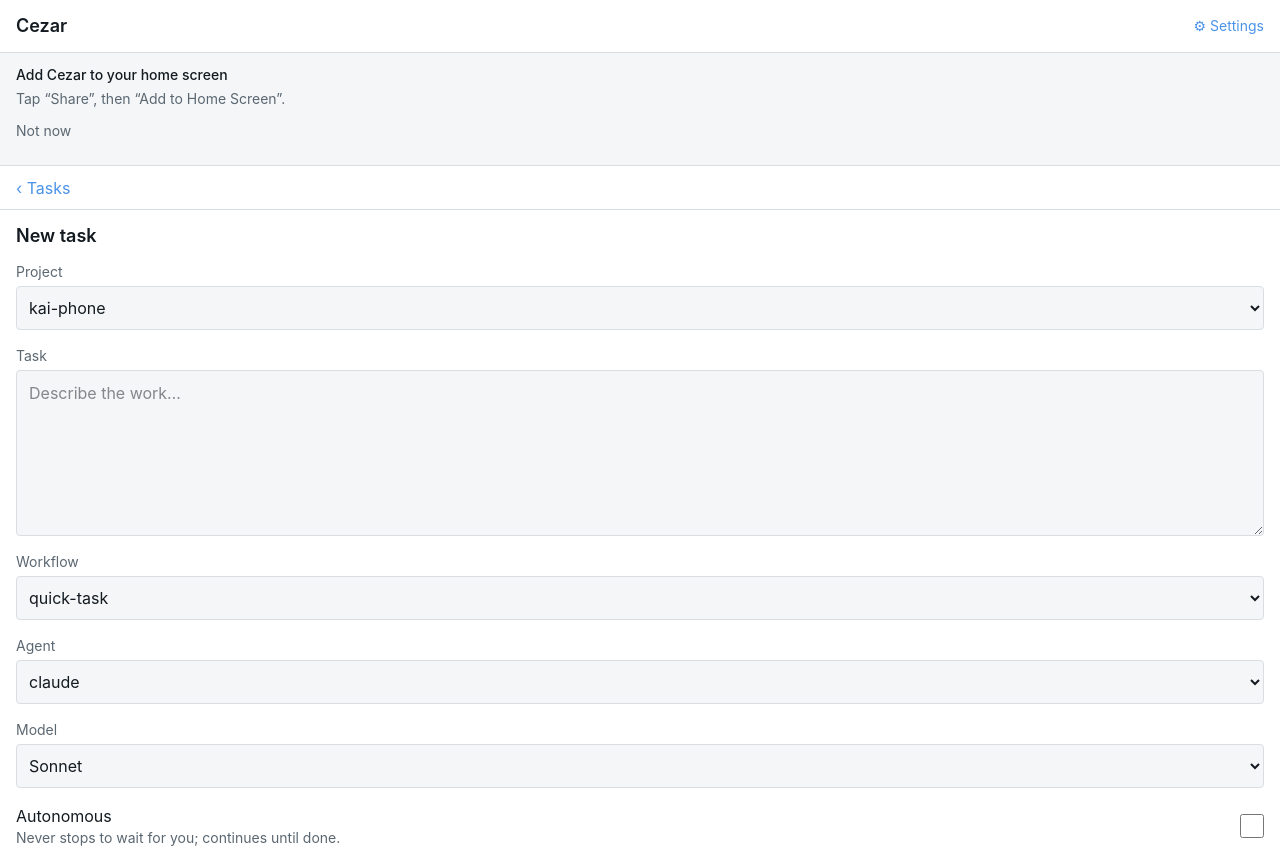
it: the new-task form › creates the task with every choice and lands on it (FR-034)
expect the dropdown labelled "Workflow" is shown: met, box [16,576,1264,620]
expect the dropdown labelled "Model" shows "Sonnet": met, box [16,744,1264,788]
In the text box labelled "Task": (640, 453) [16,370,1264,536], type "Fix the flaky test"
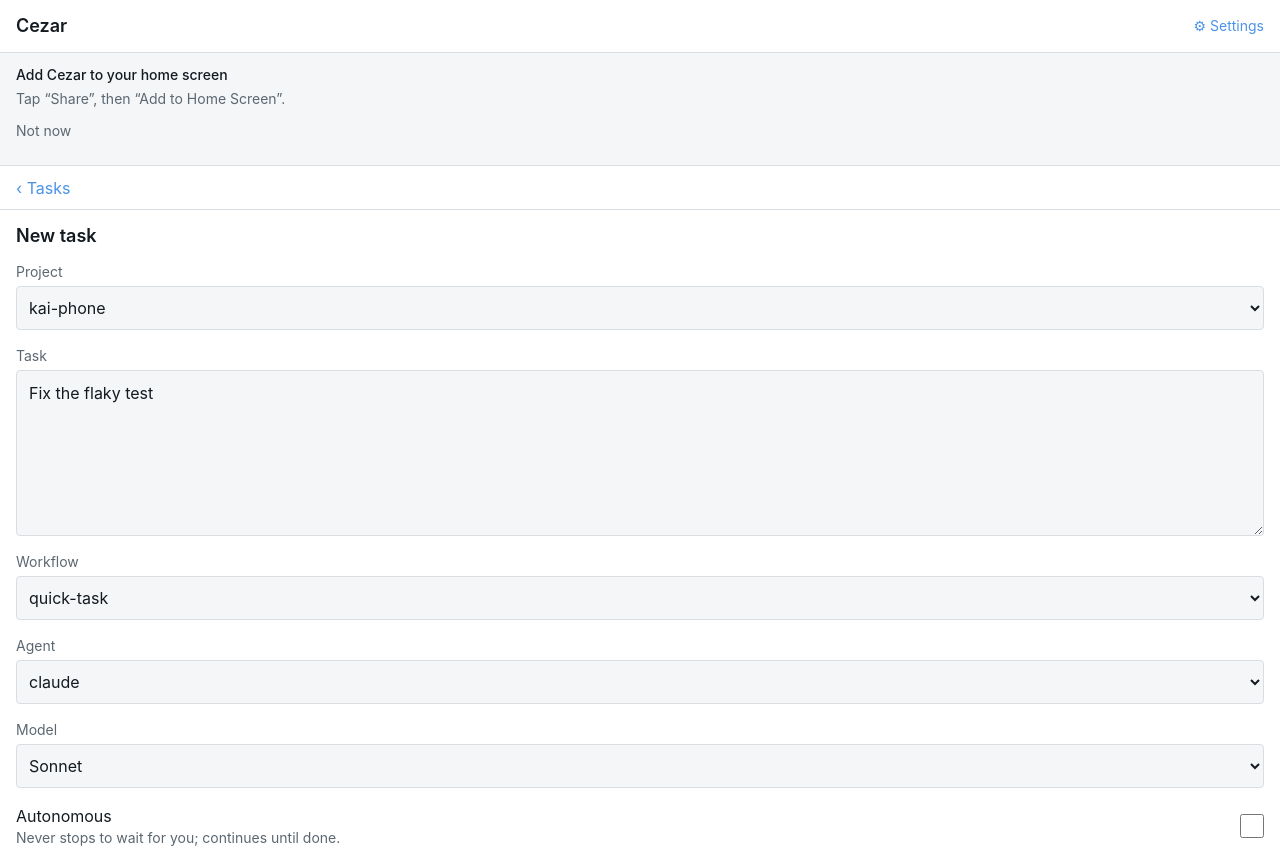
Select "Ciey-issue-fix" in the dropdown labelled "Workflow": (640, 598) [16,576,1264,620]
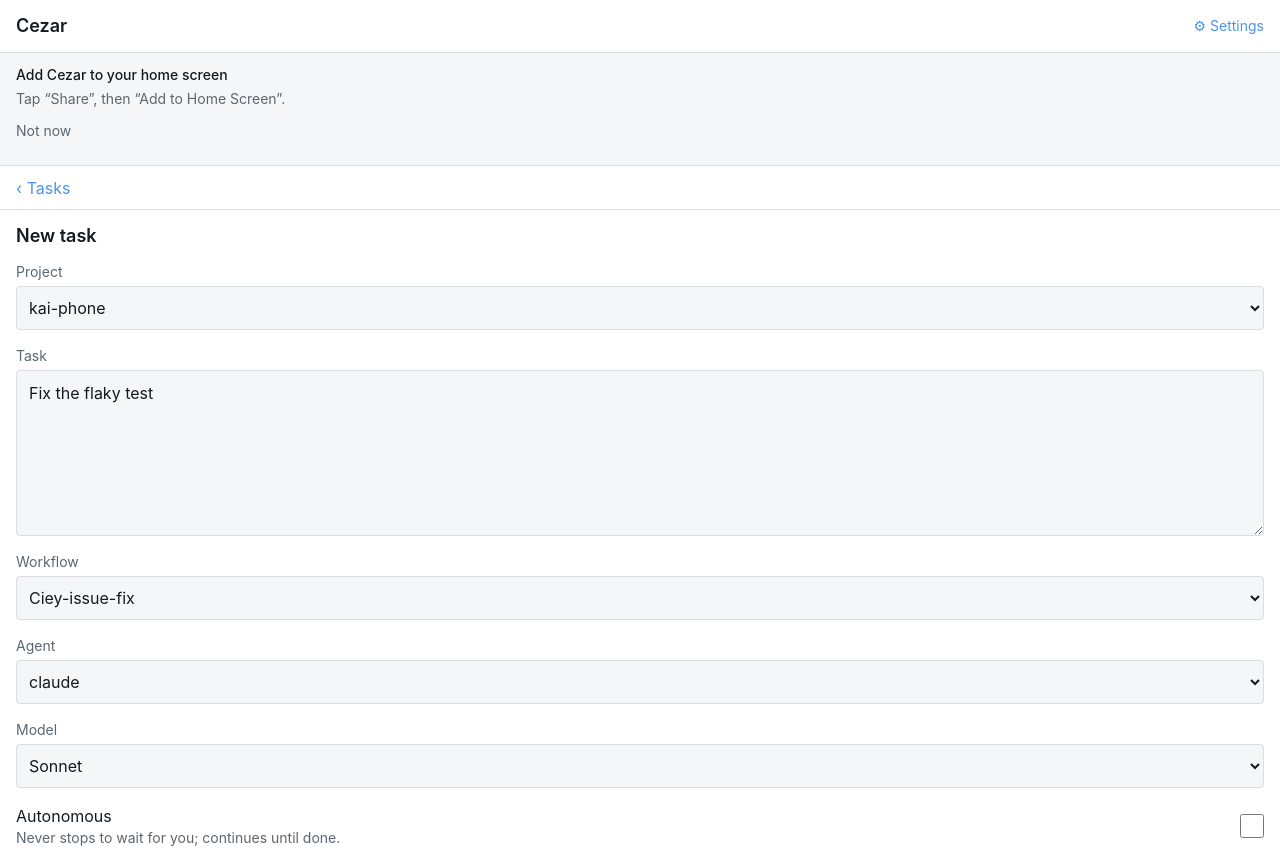
Select "Opus (1M context)" in the dropdown labelled "Model": (640, 766) [16,744,1264,788]
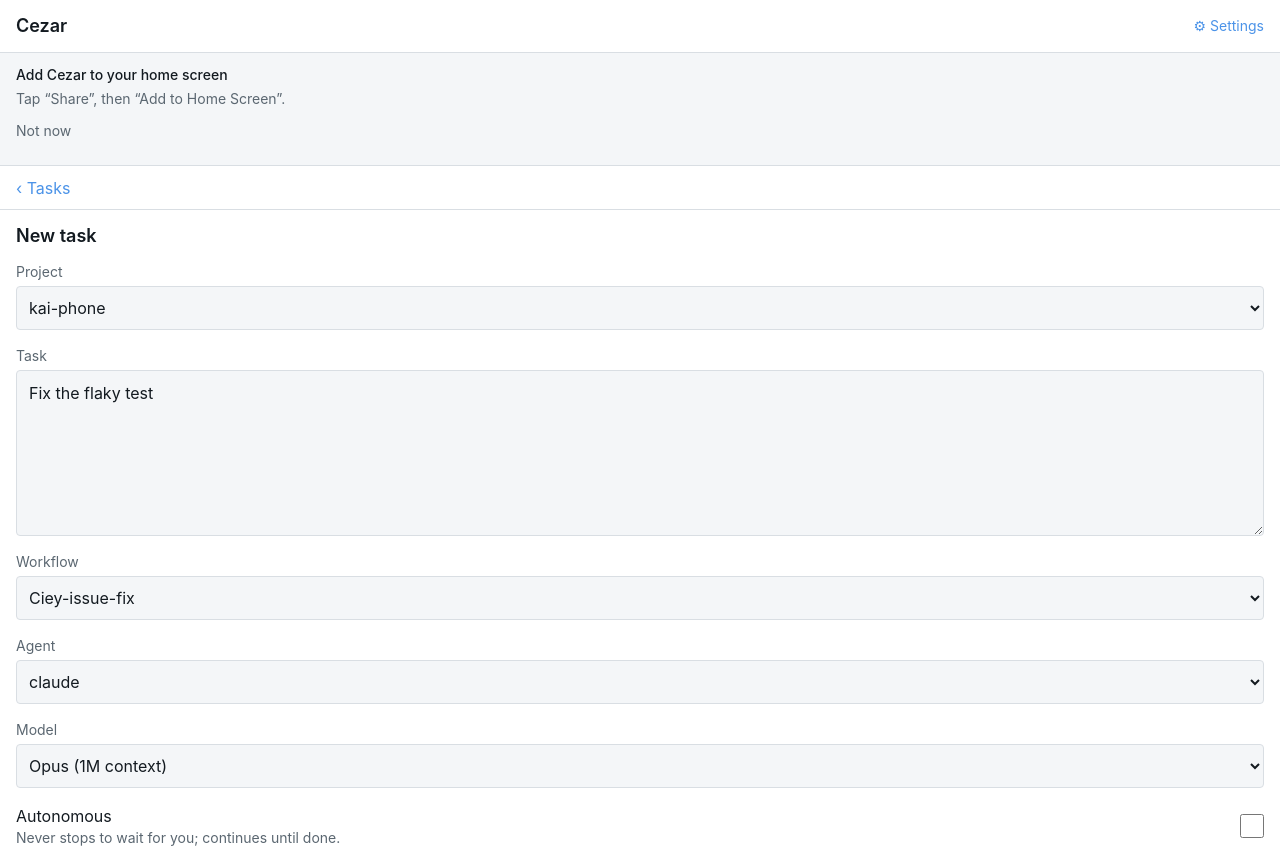
Click the switch labelled "Autonomous": (1252, 826) [1240,814,1264,838]
(page scrolled)
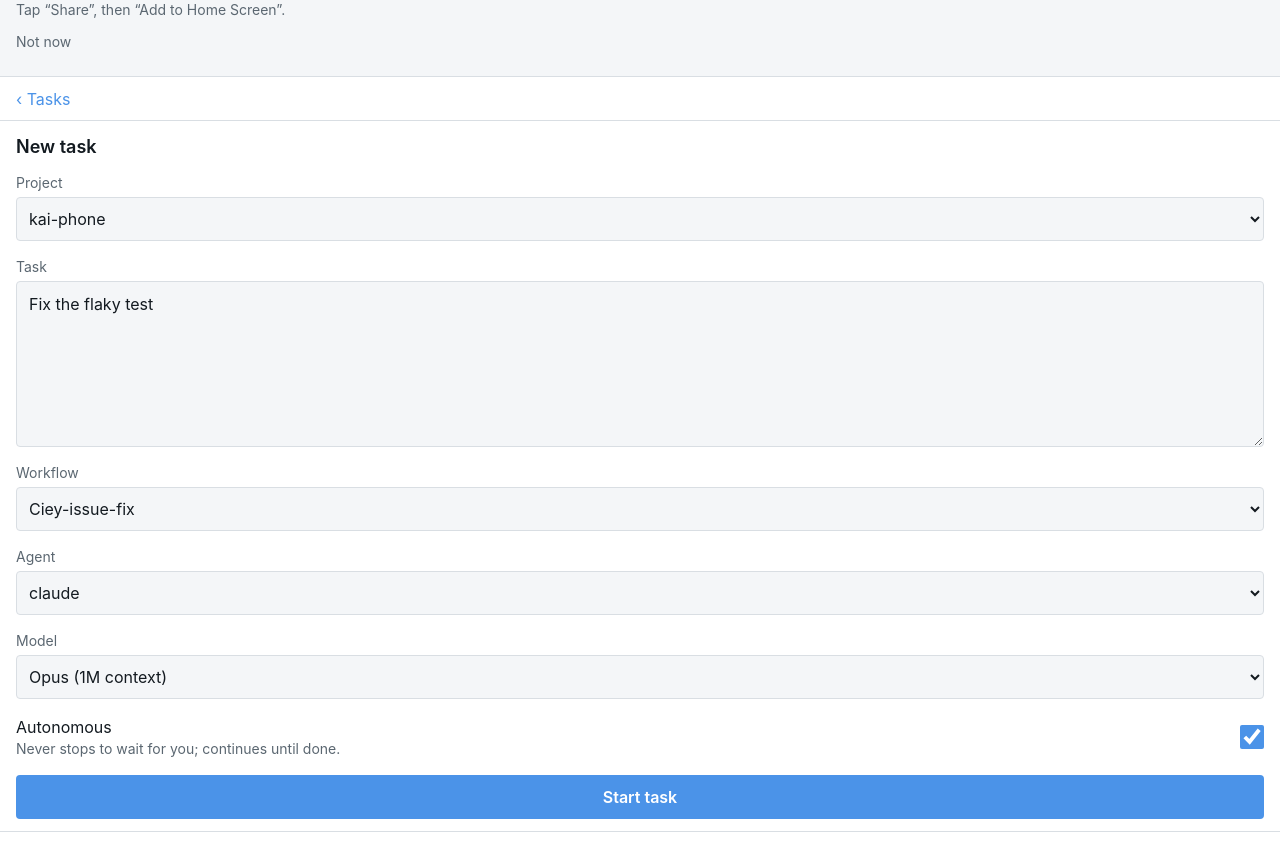
Click the button "Start task": (640, 797) [16,775,1264,819]
(page scrolled)
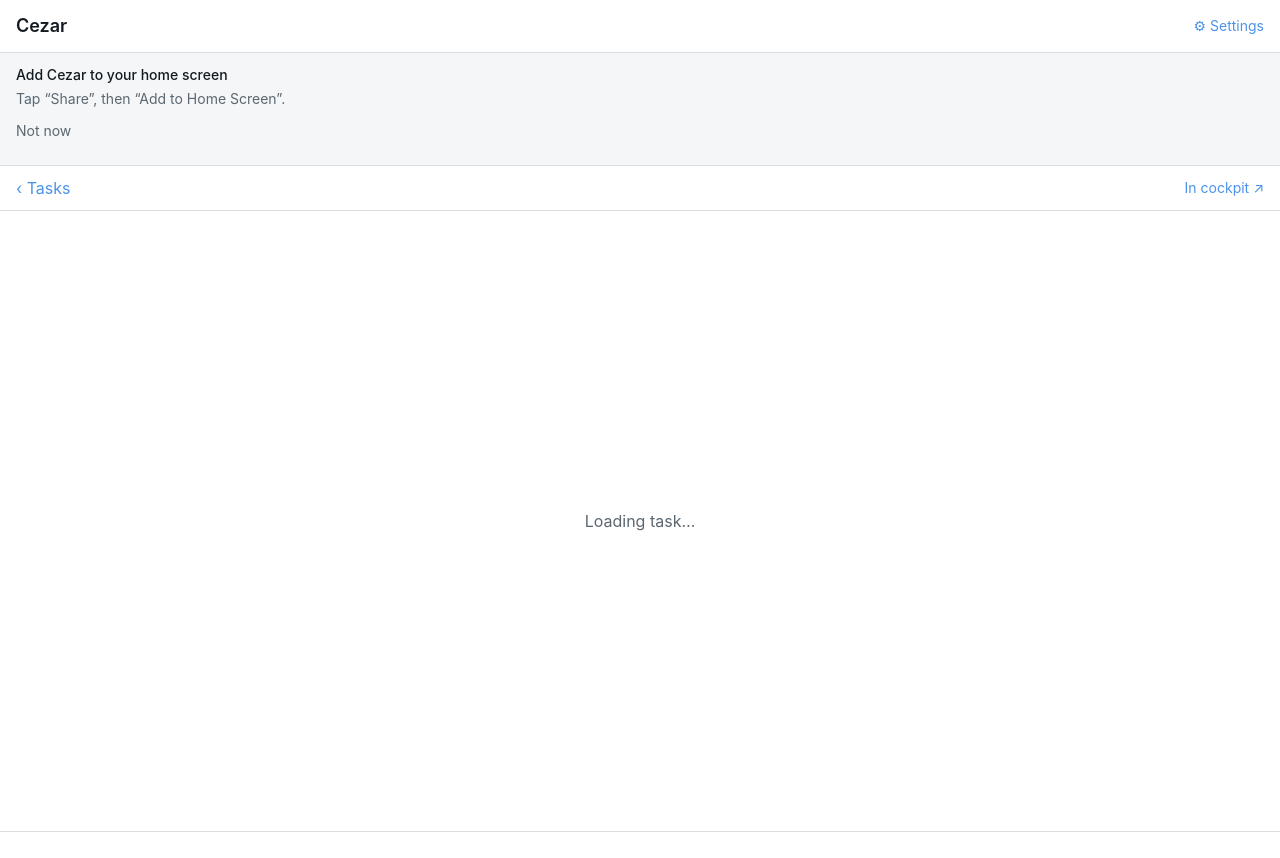
expect the text "Loading task…" is shown: met, box [585,511,695,531]
